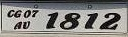character: (58, 10, 80, 30), (98, 11, 121, 29), (82, 11, 98, 30), (45, 10, 58, 29), (12, 20, 22, 30), (21, 19, 30, 30), (22, 9, 31, 18), (30, 8, 37, 18), (6, 9, 14, 17), (14, 9, 22, 17)
